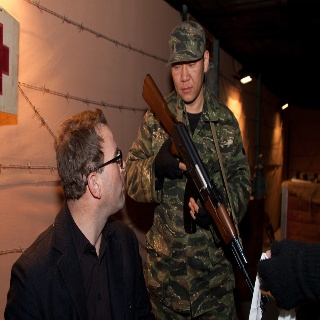rifle: (140, 72, 267, 311)
